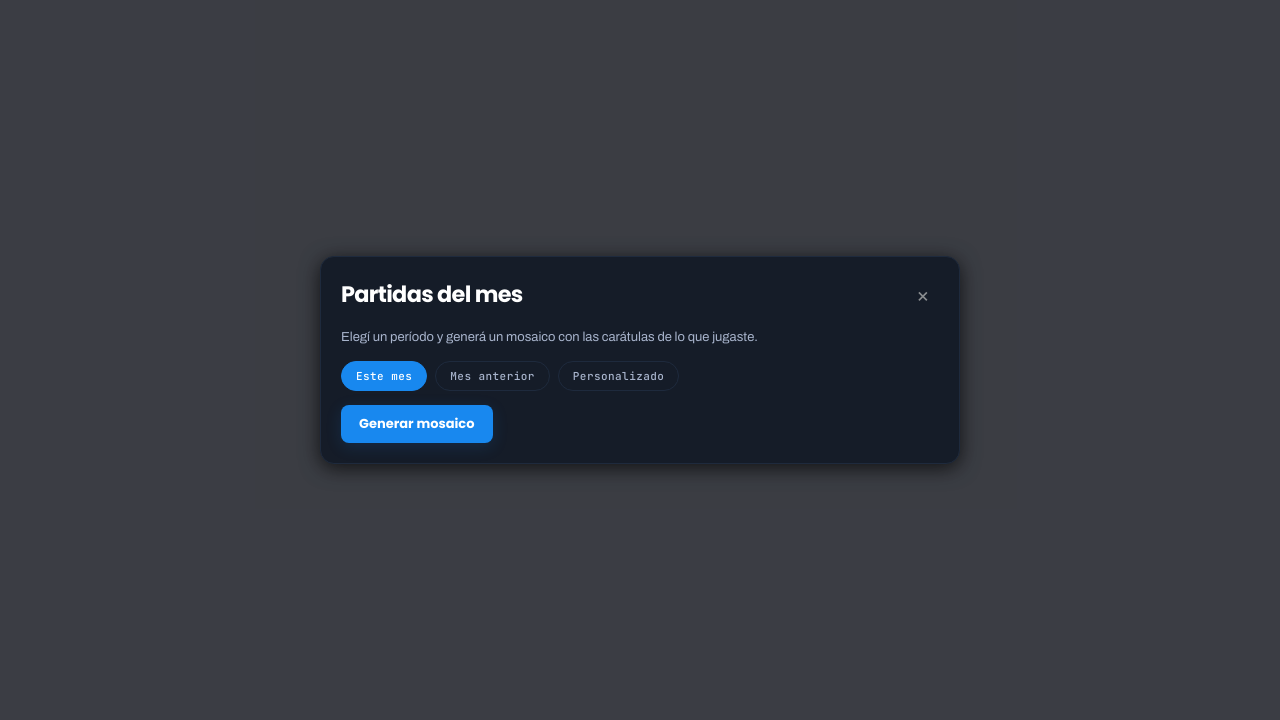
Test: <MonthlyRecapModal> › clicking 'Generar' fetches the current month range and renders the mosaic + download button
This screenshot has width=1280, height=720.
Click the button "Generar mosaico" at (417, 424), box [341,405,492,443]
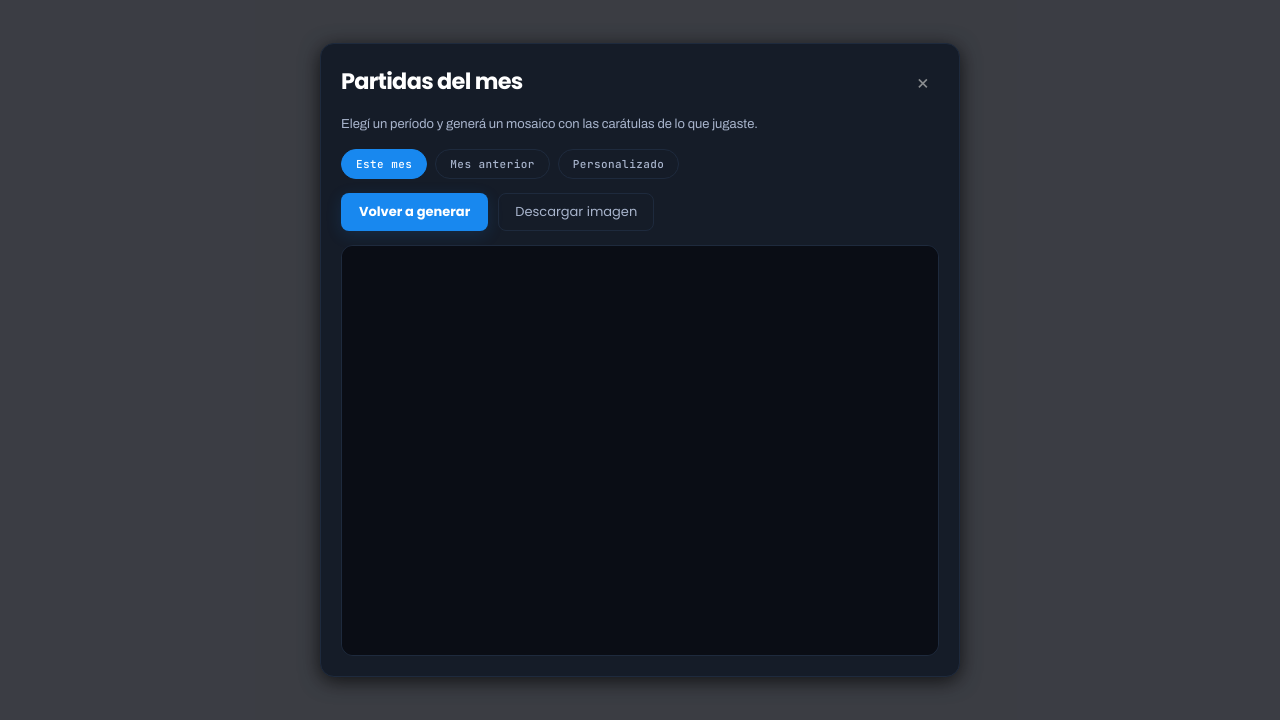
Check: the button "Descargar imagen" is shown, box [498,193,654,231]
Check: the picture named "vista previa del mosaico" is shown, box [352,245,928,656]
